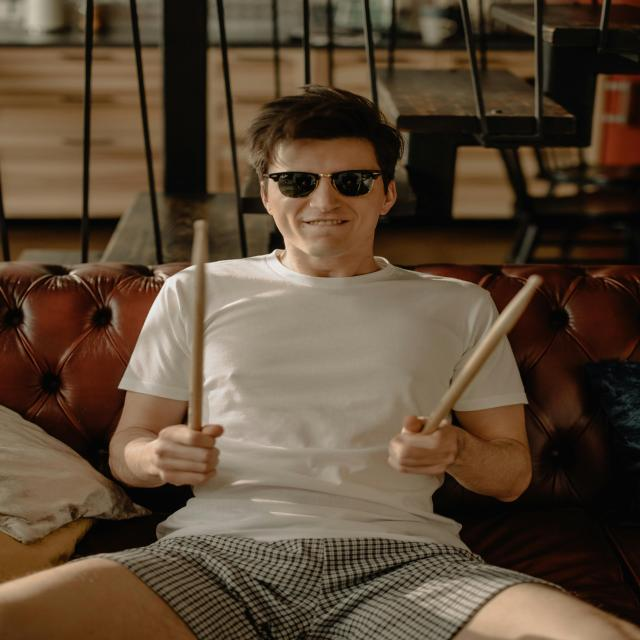sit: (15, 74, 639, 638)
